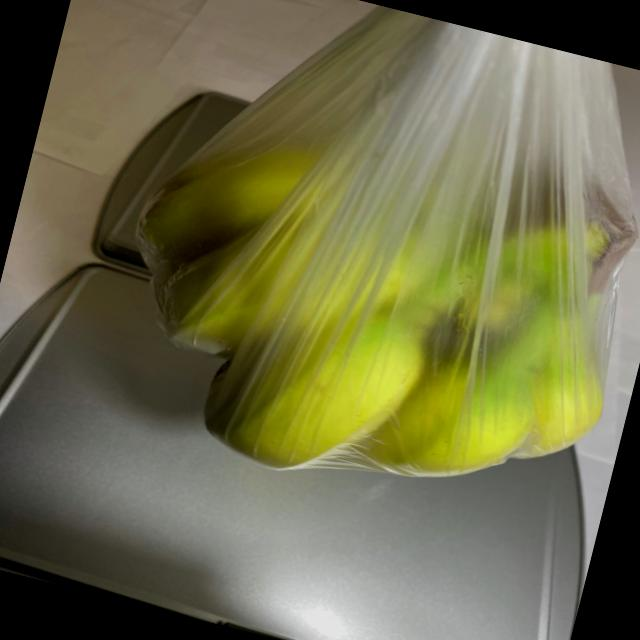banana: (71, 45, 640, 542)
